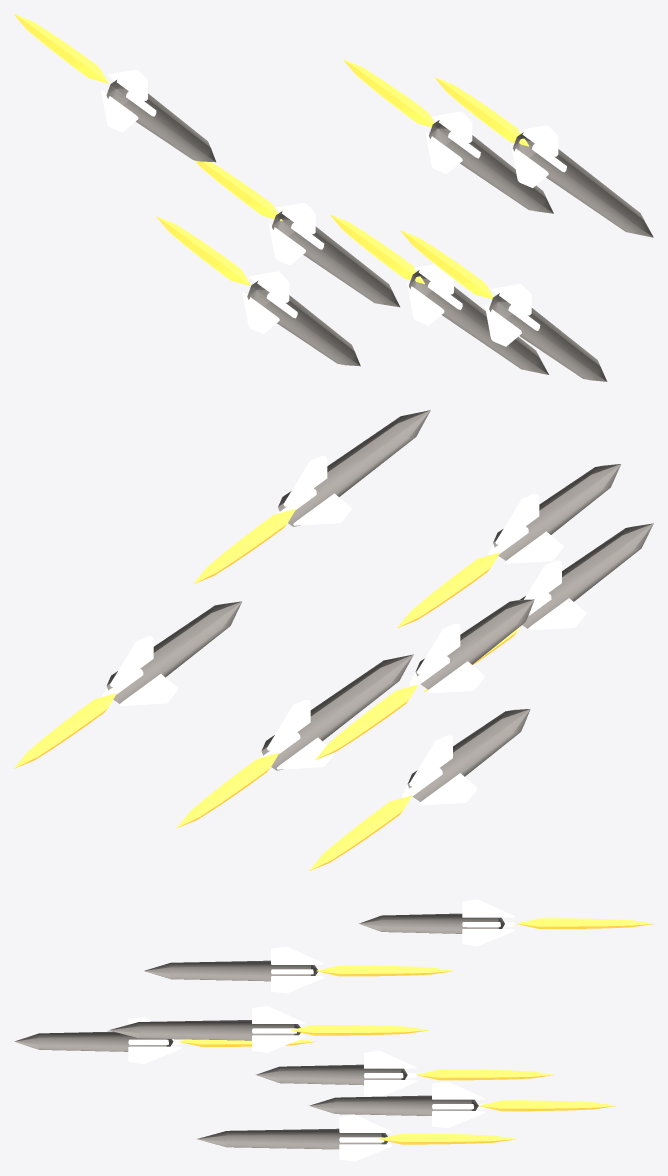
Rendered from vfx-mesh-library-flechette-volley-4963424e__21880.glb.
3 renders of one model, top to bottom at view 1: azimuth 30°, elevation 25°; view 2: azimuth 150°, elevation 25°; view 3: azimuth 270°, elevation 25°, orthographic. The views are drawn at different scales.
Visible parts, largest first — view 1: flechette-volley; view 2: flechette-volley; view 3: flechette-volley.
Boxes of the visible parts, x1=… form: flechette-volley: x1=14, y1=14, x2=653, y2=381; flechette-volley: x1=14, y1=410, x2=653, y2=870; flechette-volley: x1=14, y1=899, x2=653, y2=1161.
Size of the model in its own units: 0.4854 by 0.306 by 1.02.
